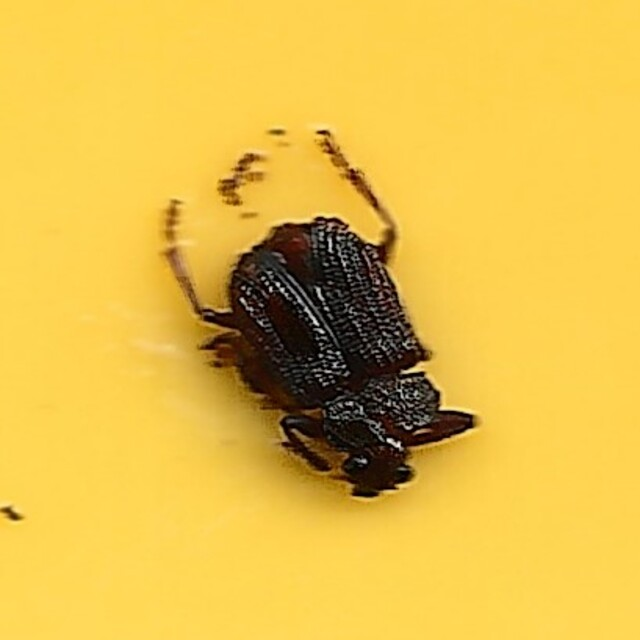Coleoptera: (156, 136, 484, 504)
